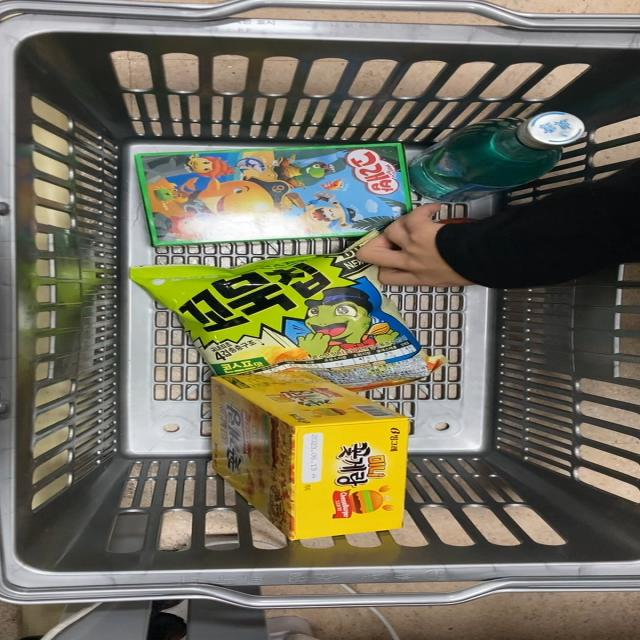ggobukchip: (128, 238, 458, 422)
goraebob: (125, 142, 434, 252)
jinro: (412, 102, 600, 202)
minicrab: (205, 368, 415, 548)
